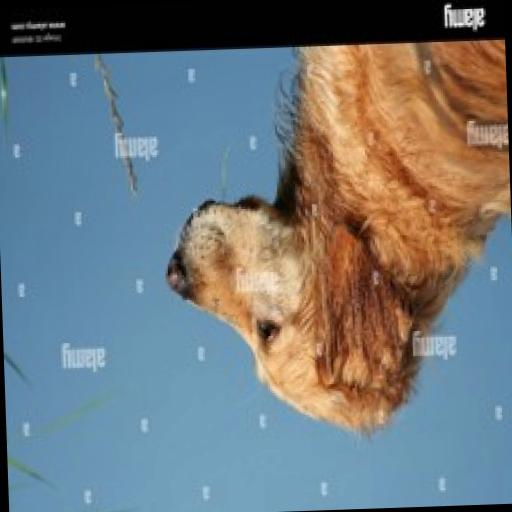dog: (143, 38, 512, 457)
